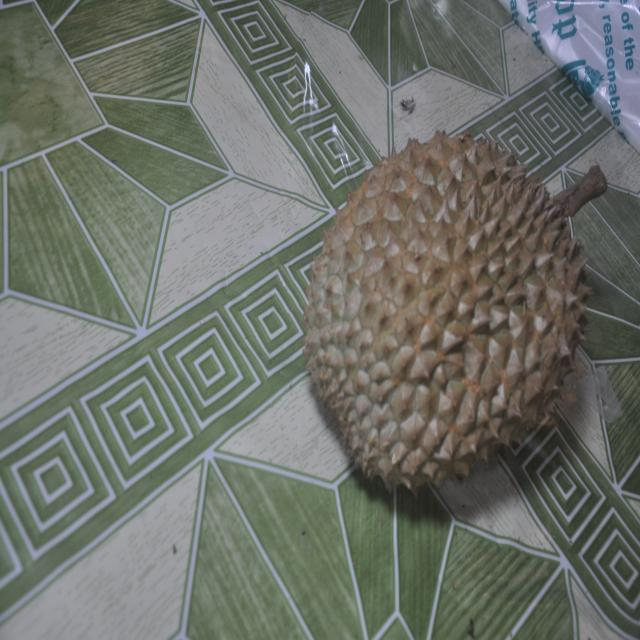mature: (304, 132, 590, 488)
